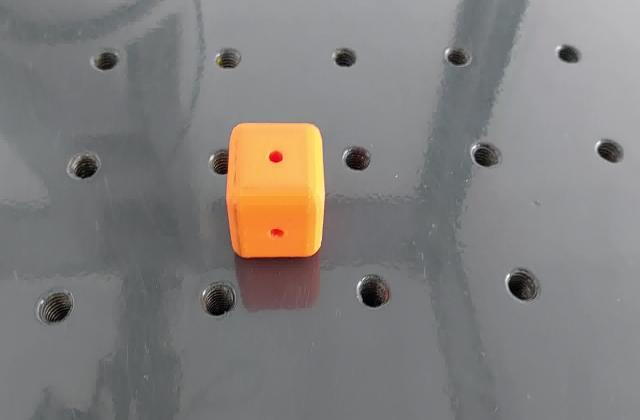cube: (224, 121, 327, 260)
